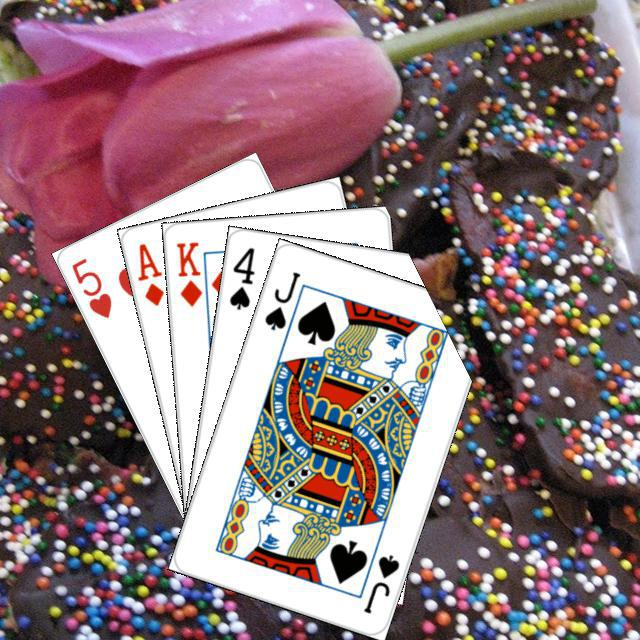4s: (224, 242, 256, 312)
5h: (66, 253, 114, 320)
Ad: (133, 238, 166, 308)
Js: (259, 266, 302, 332), (358, 549, 401, 615)
Kd: (171, 236, 203, 308)
